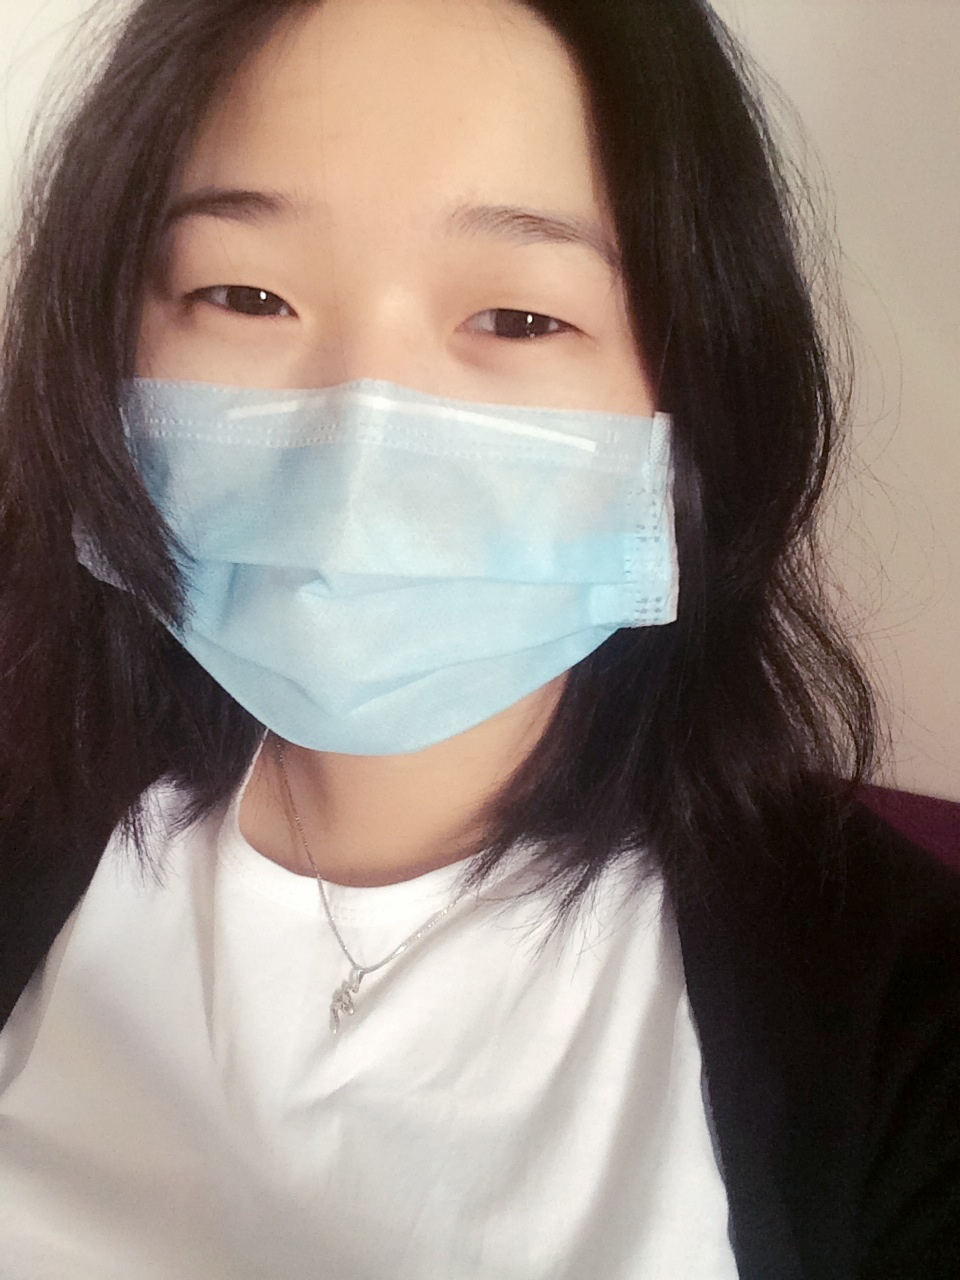face_mask: (135, 1, 677, 755)
